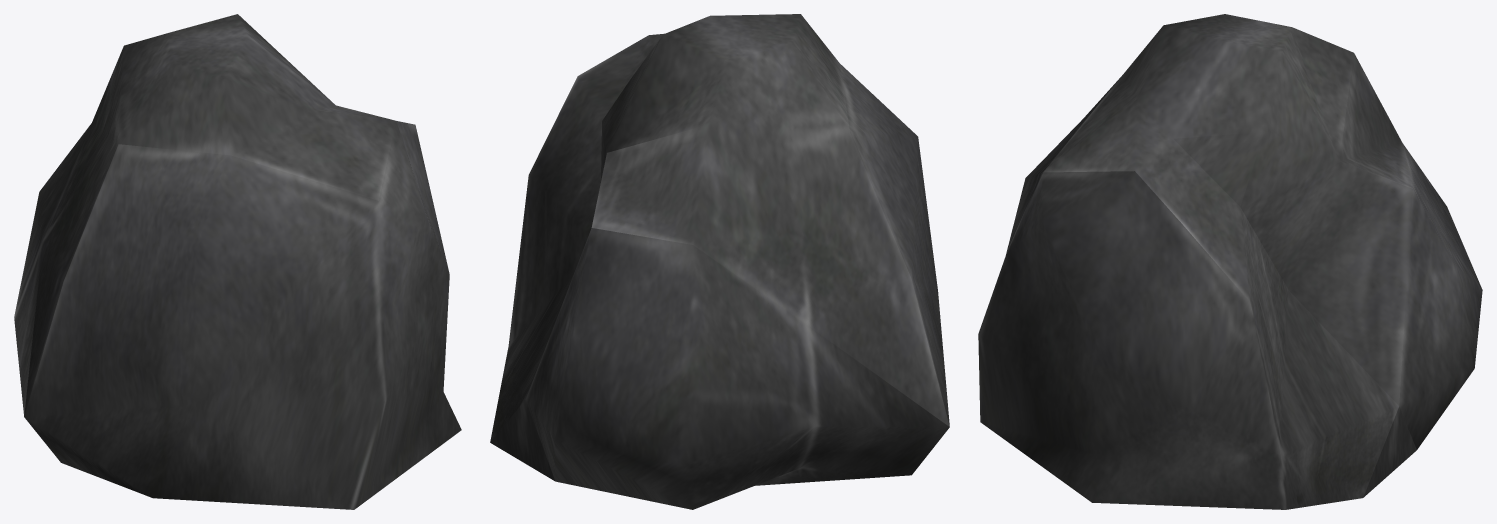
Rendered from modelRock03.fbx.
3 views of the same model, side by side, from view 1: azimuth 30°, elevation 25°; view 2: azimuth 150°, elevation 25°; view 3: azimuth 270°, elevation 25° (orthographic). The views are drawn at different scales.
Parts seen in each view (by area): view 1: modelRock03; view 2: modelRock03; view 3: modelRock03.
Boxes of the visible parts, x1=… form: modelRock03: x1=14, y1=14, x2=461, y2=509; modelRock03: x1=490, y1=14, x2=949, y2=509; modelRock03: x1=978, y1=14, x2=1482, y2=509.
Size of the model in its own units: 18.95 by 17.78 by 20.98.
